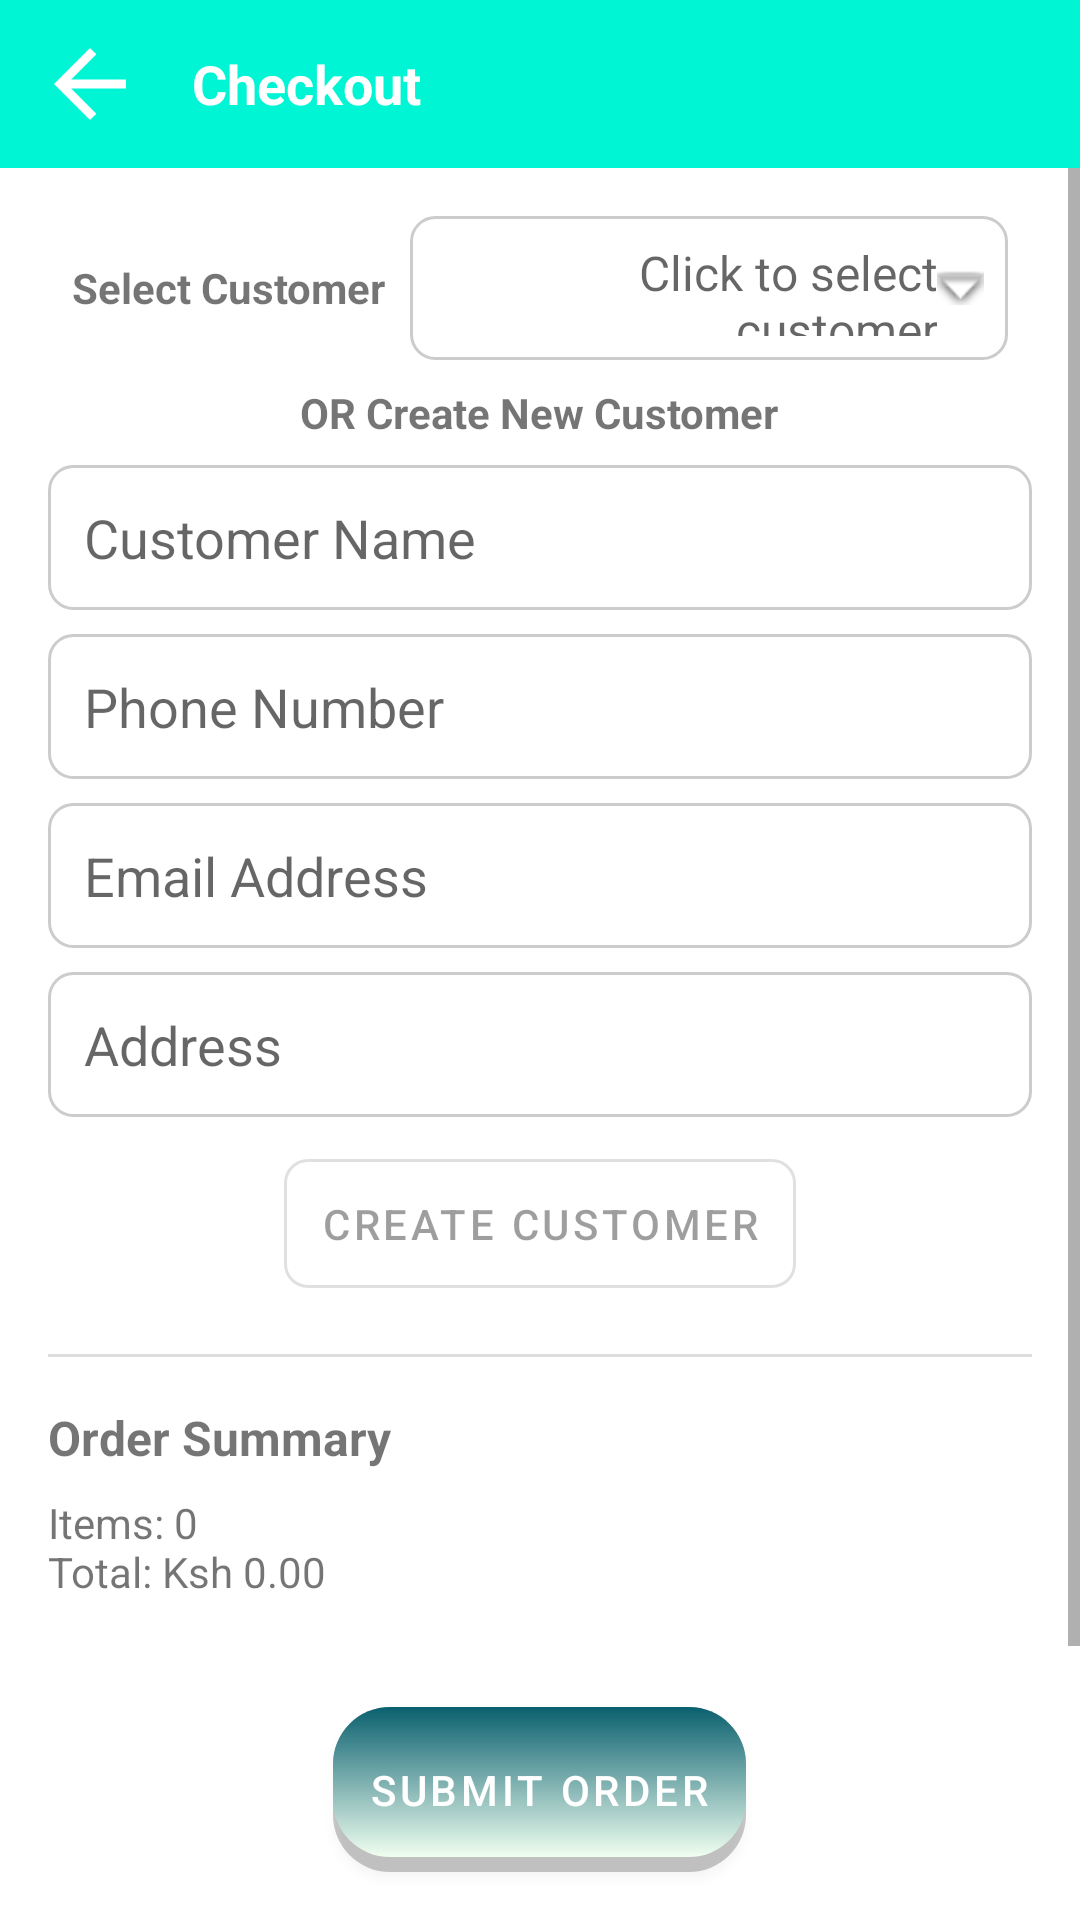

Icons on this 1080 × 1920 Android screen, each with the point to tap as (x=x, y=y):
Back: (x=90, y=84)
